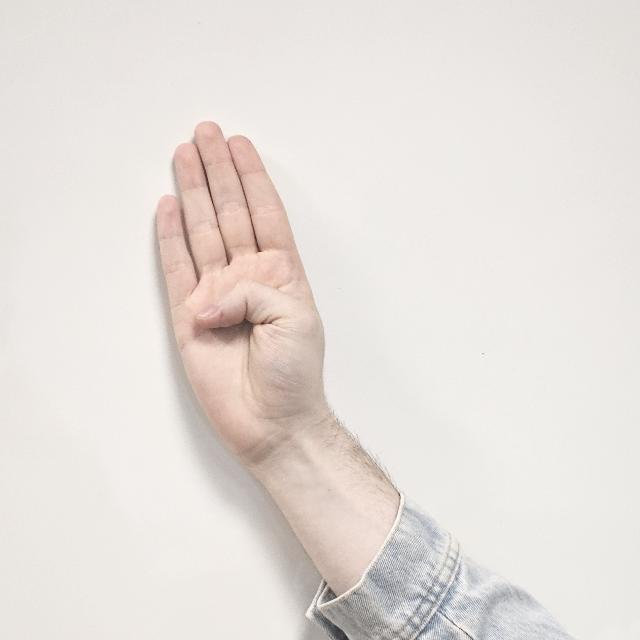Baixo: (144, 110, 356, 496)
